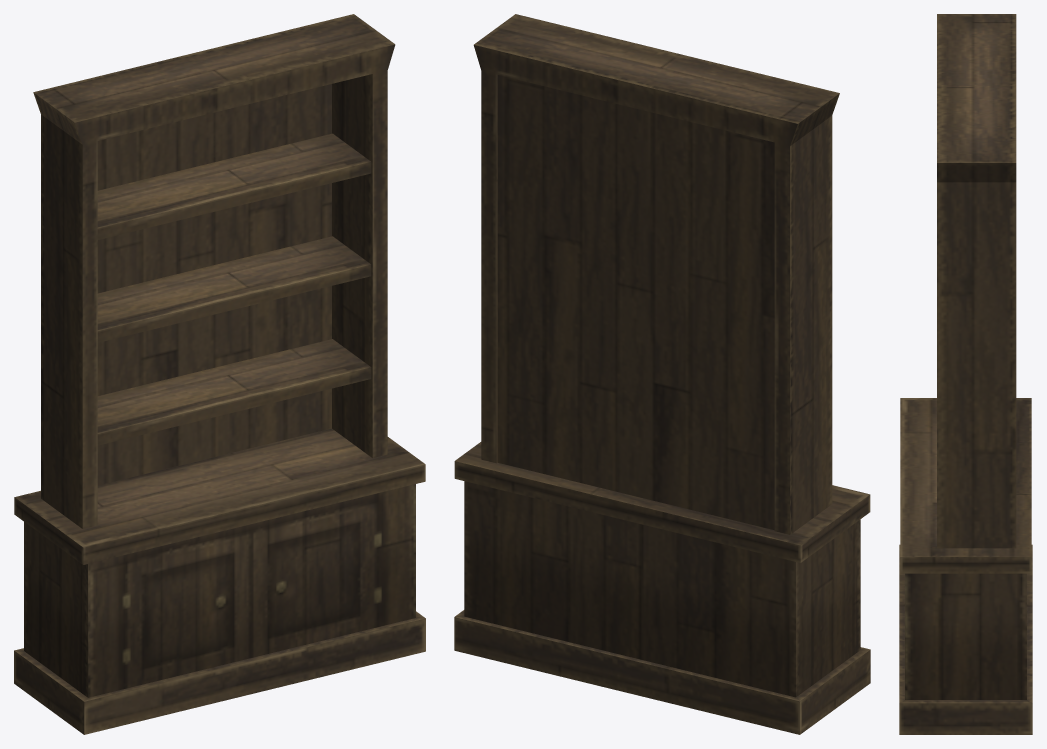
The model's file is Bookshelf_3.fbx.
3 views of the same model, side by side, from view 1: azimuth 30°, elevation 25°; view 2: azimuth 150°, elevation 25°; view 3: azimuth 270°, elevation 25° (orthographic). The views are drawn at different scales.
Visible parts, largest first — view 1: Bookshelf_3; view 2: Bookshelf_3; view 3: Bookshelf_3.
Part boxes in pixels (bbox=[...]): Bookshelf_3: bbox=[14, 14, 425, 734]; Bookshelf_3: bbox=[454, 14, 870, 734]; Bookshelf_3: bbox=[899, 14, 1032, 734].
Bounding box in the file's own units: 120 × 200 × 42.73.
